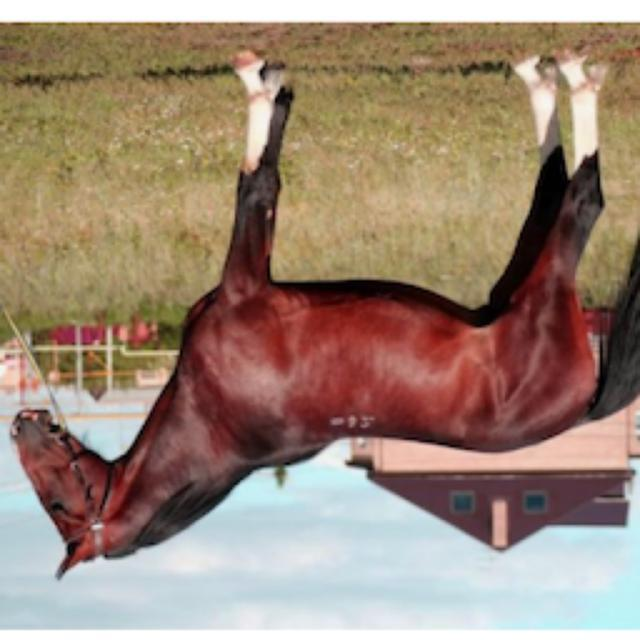Horse: (0, 45, 638, 585)
